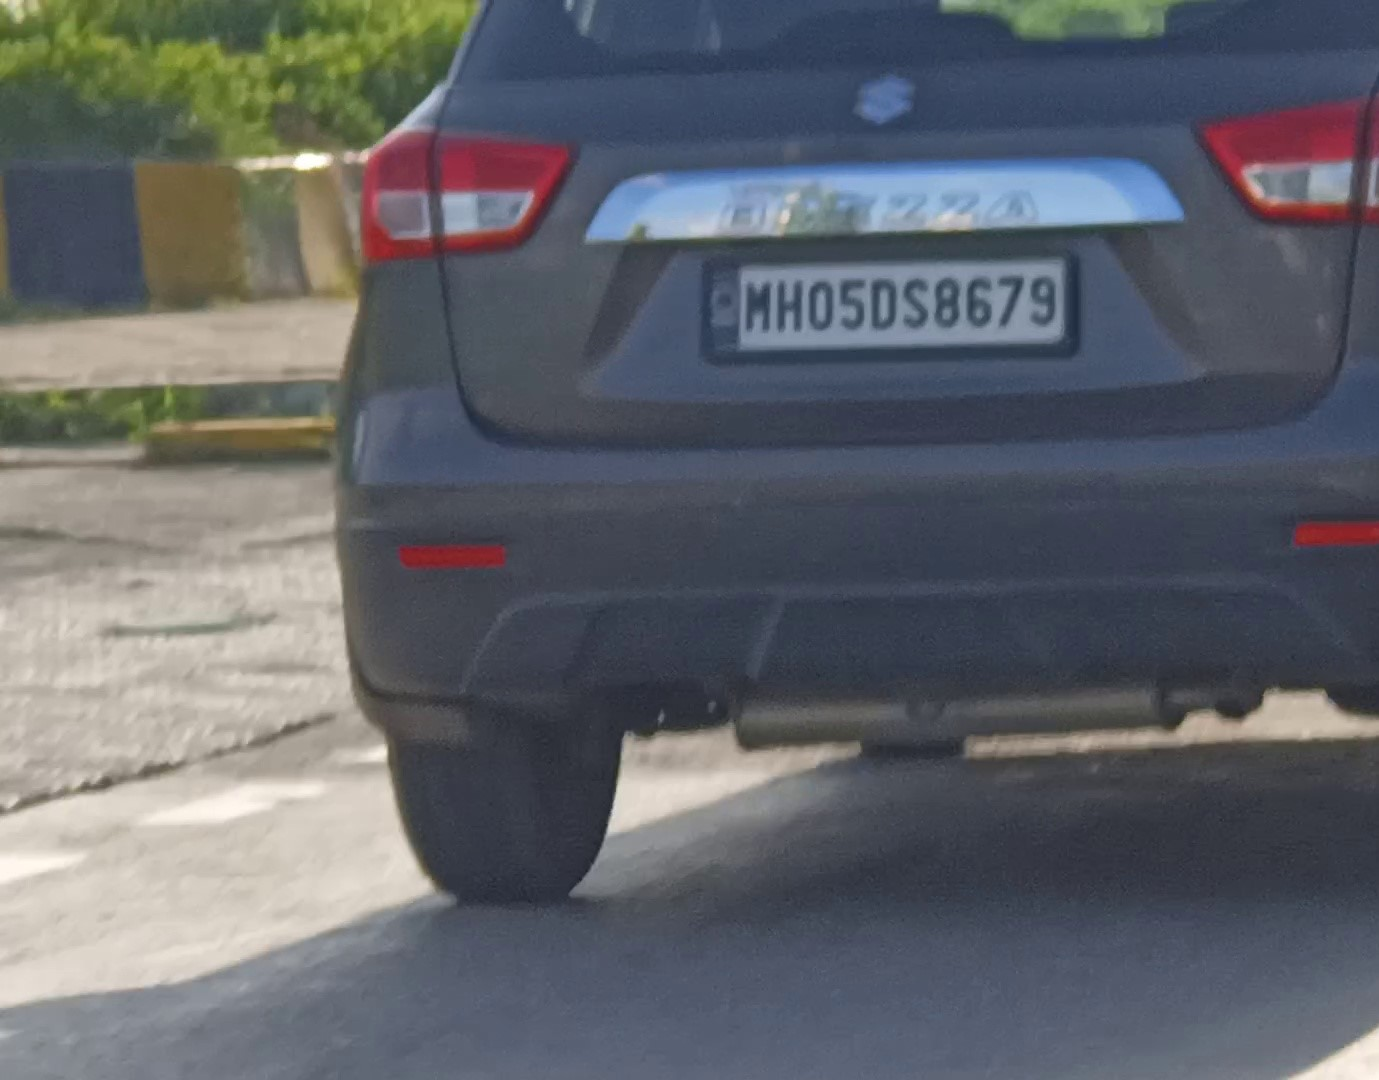MH05DS8679: (698, 261, 1070, 348)
